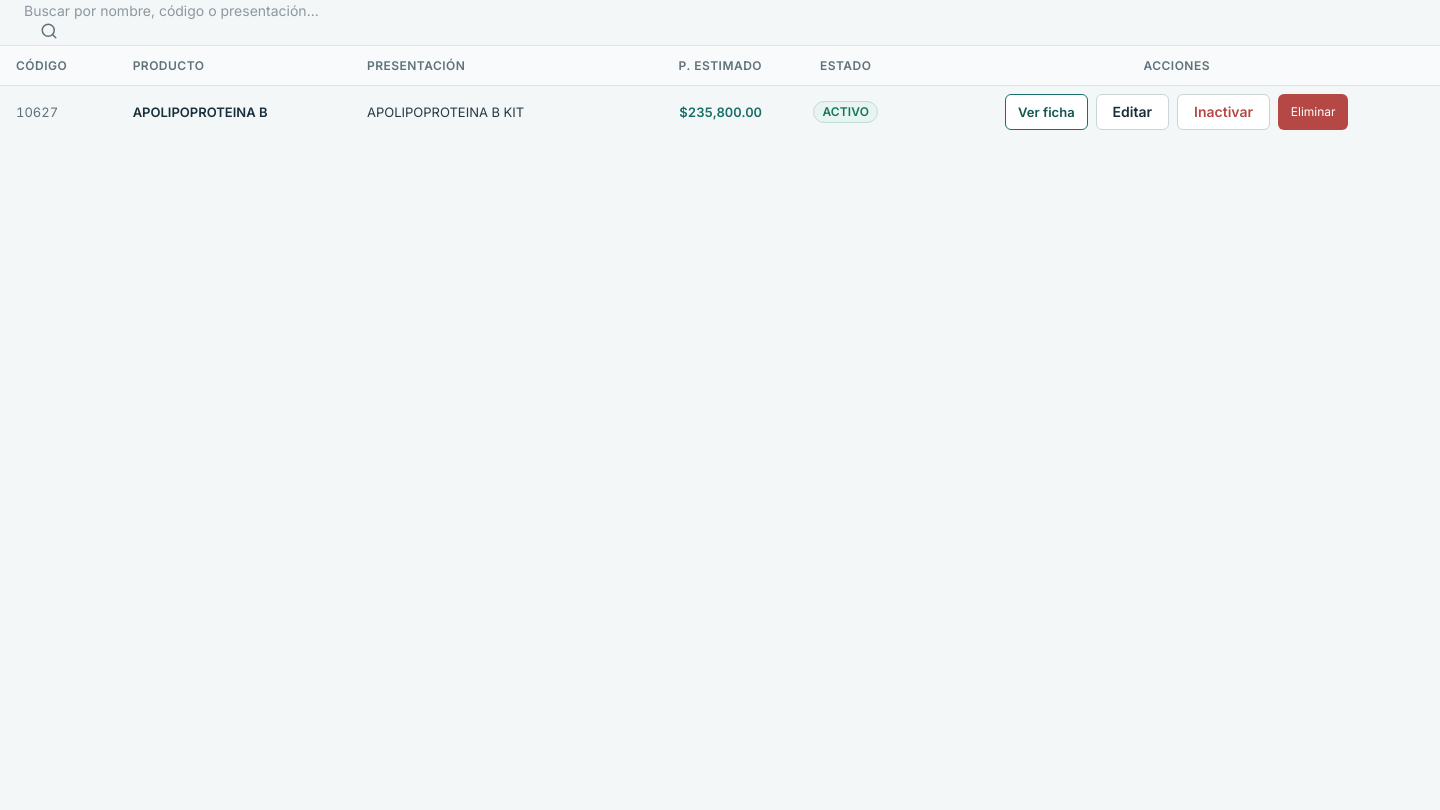
Test case: UI Ficha de Producto (Inventario -> Stock y Configuración -> Productos) › abre la ficha completa con doble clic o botón 'Ver ficha' en Configuración -> Productos
This screenshot has width=1440, height=810.
Expected: the text "APOLIPOPROTEINA B" is shown, x1=133 y1=104 x2=268 y2=120
Double-click the text "APOLIPOPROTEINA B" at (720, 112), box x1=0 y1=86 x2=1439 y2=138
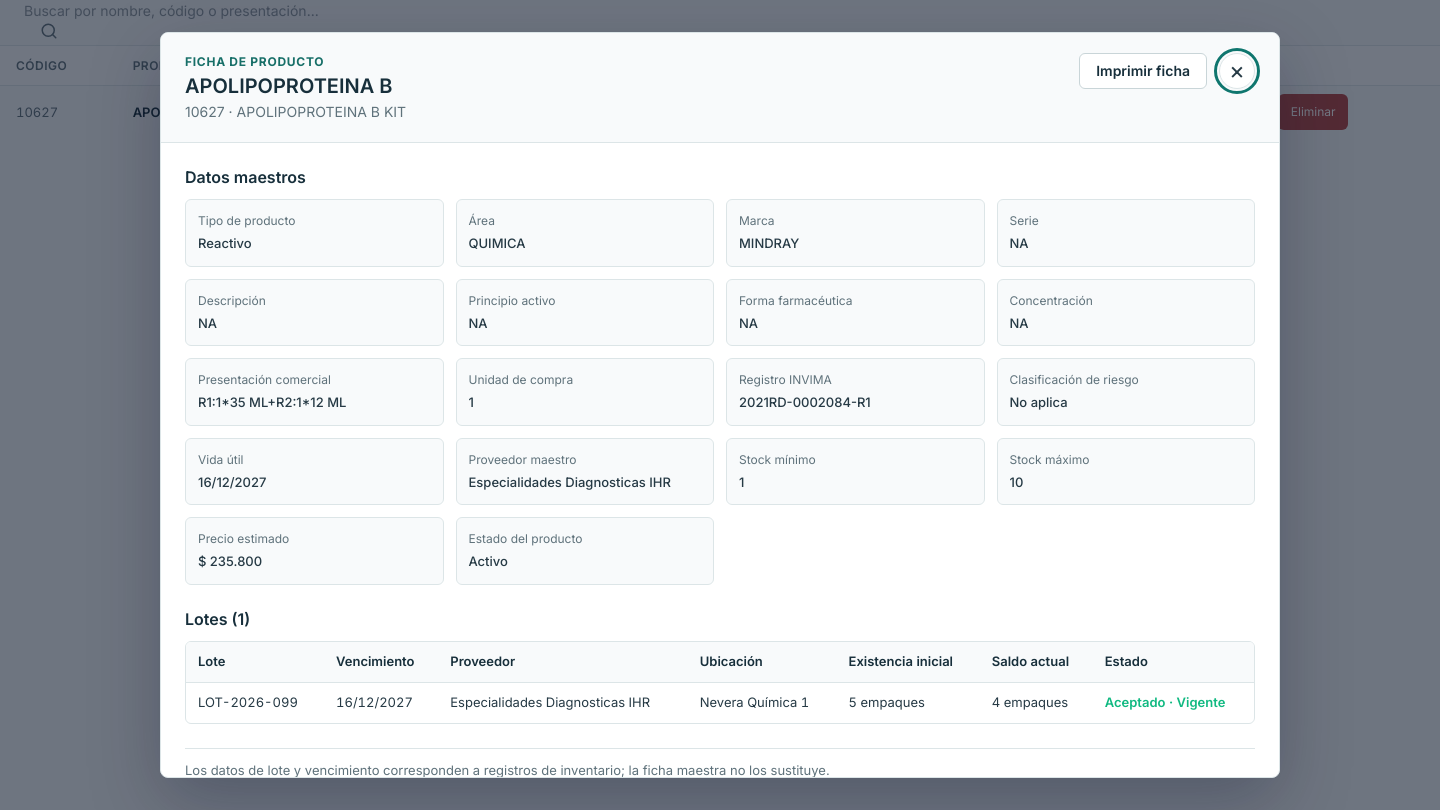
Expected: the dialog "APOLIPOPROTEINA B" is shown
Expected: the text "Reactivo" is shown, x1=198 y1=235 x2=252 y2=251
Expected: the text "LOT-2026-099" is shown, x1=186 y1=682 x2=324 y2=723
# Cerrar modal con el botón ×
Click the button named "Cerrar ficha" at (1237, 71), box x1=1219 y1=53 x2=1255 y2=89
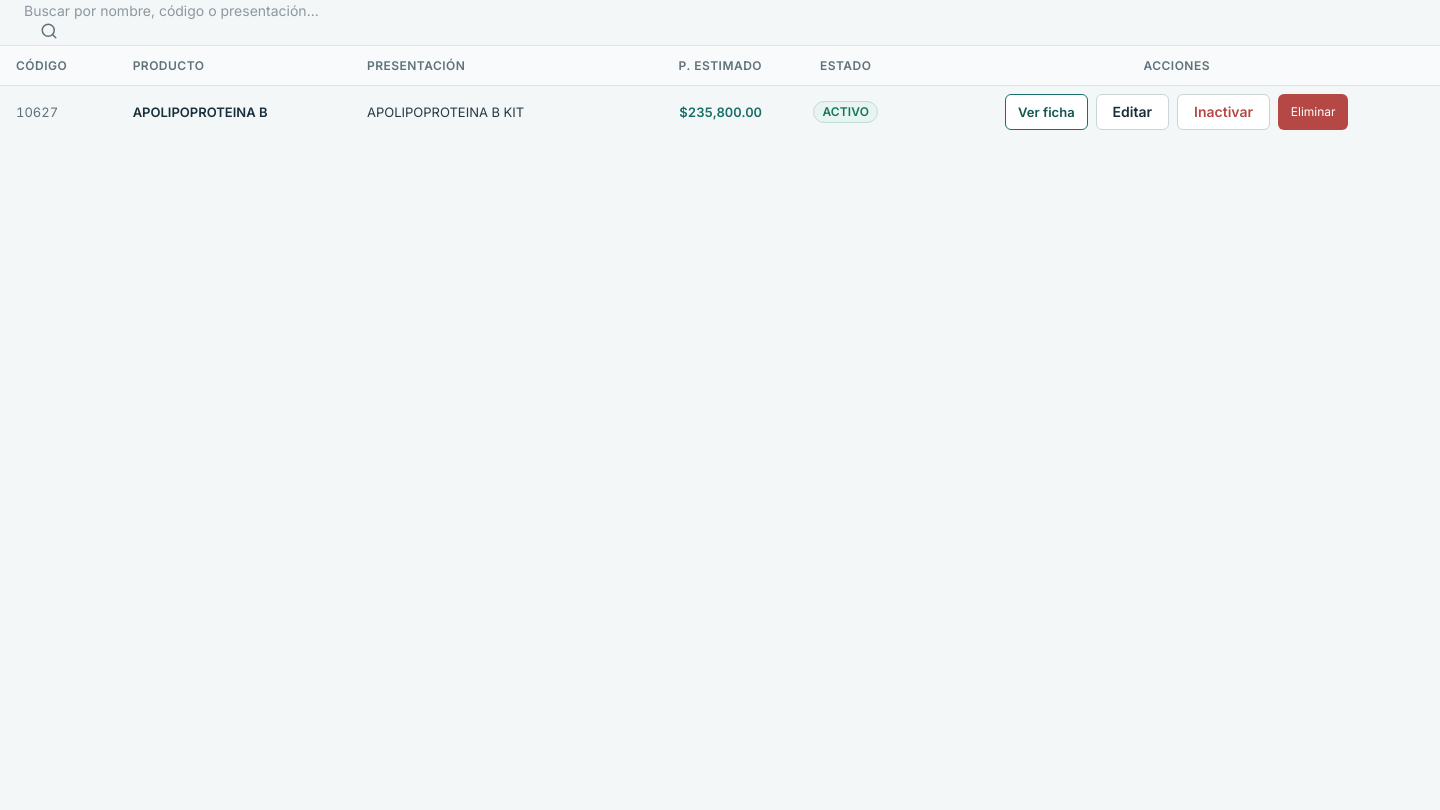
Expected: the dialog is gone
# Abrir nuevamente con el botón "Ver ficha"
Click the button with aria-label "Ver ficha completa de APOLIPOPROTEINA B" at (1046, 112), box x1=1005 y1=94 x2=1088 y2=130
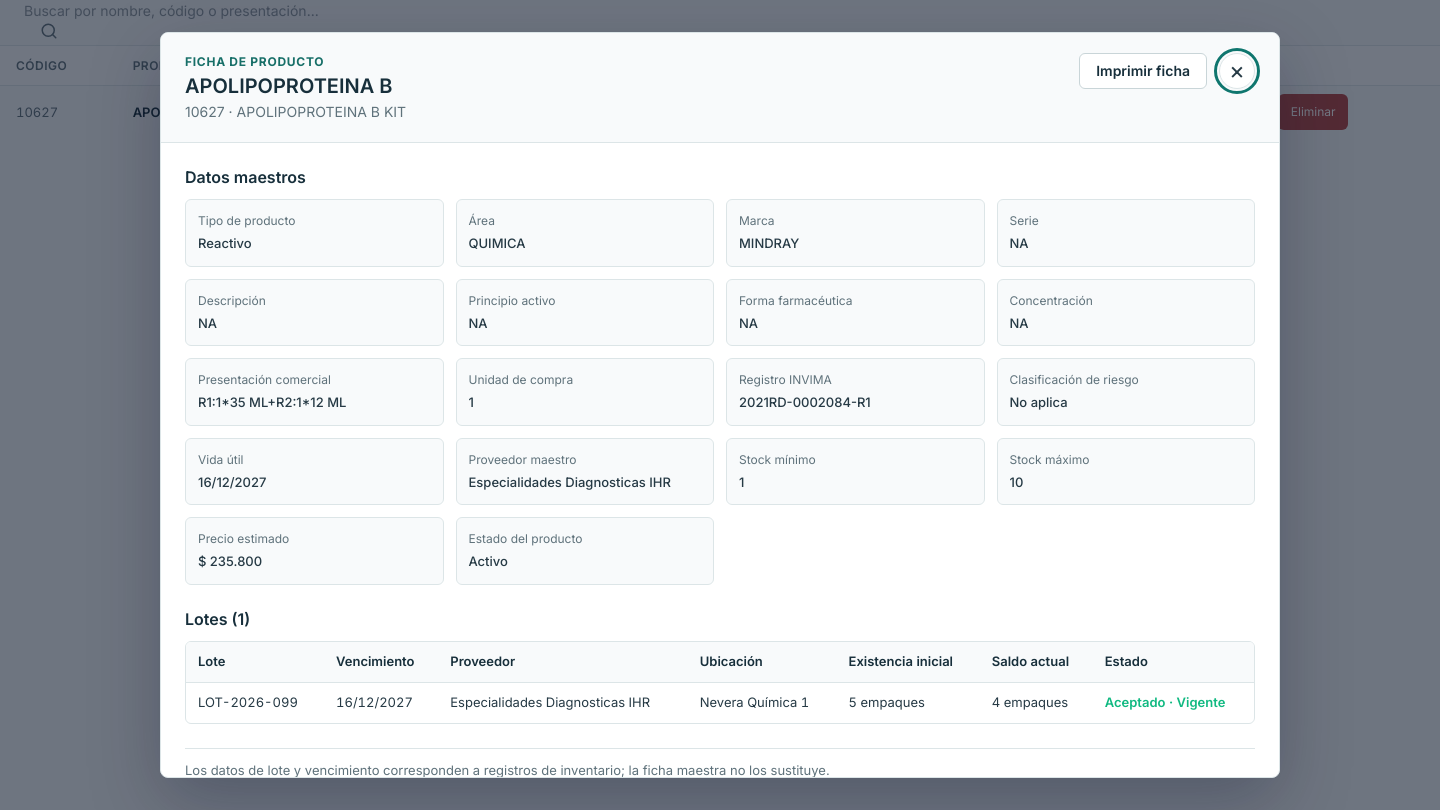
Expected: the dialog "APOLIPOPROTEINA B" is shown
